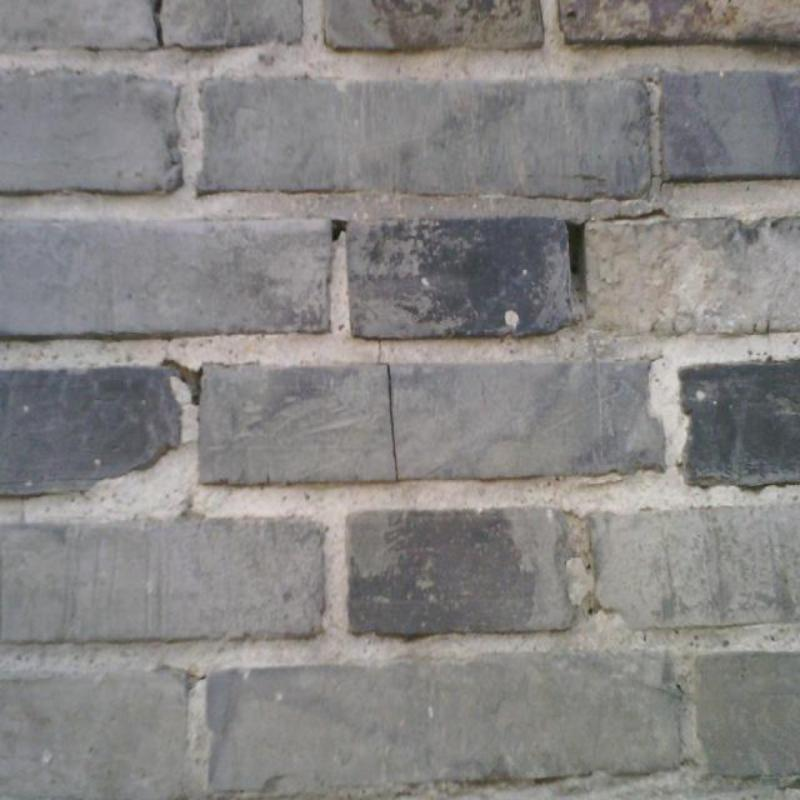crack: (377, 340, 398, 480), (164, 360, 201, 405), (565, 219, 588, 290), (148, 0, 164, 47), (601, 210, 666, 221), (331, 220, 348, 240), (652, 174, 665, 190)
